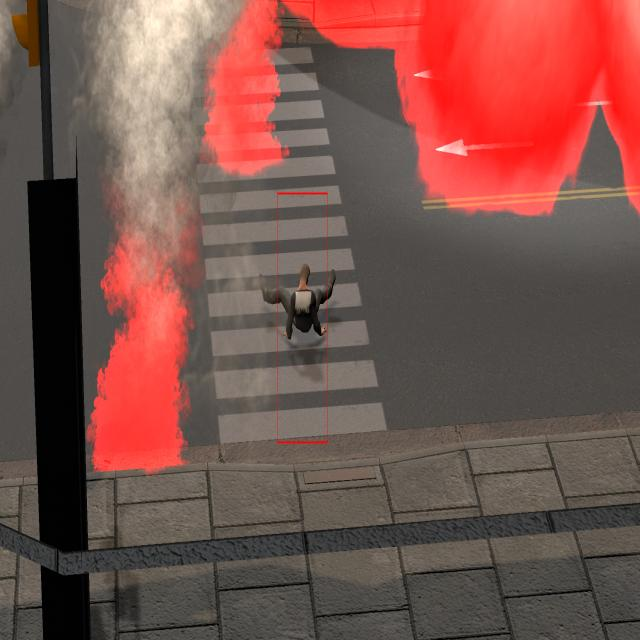Human: (252, 254, 336, 345)
